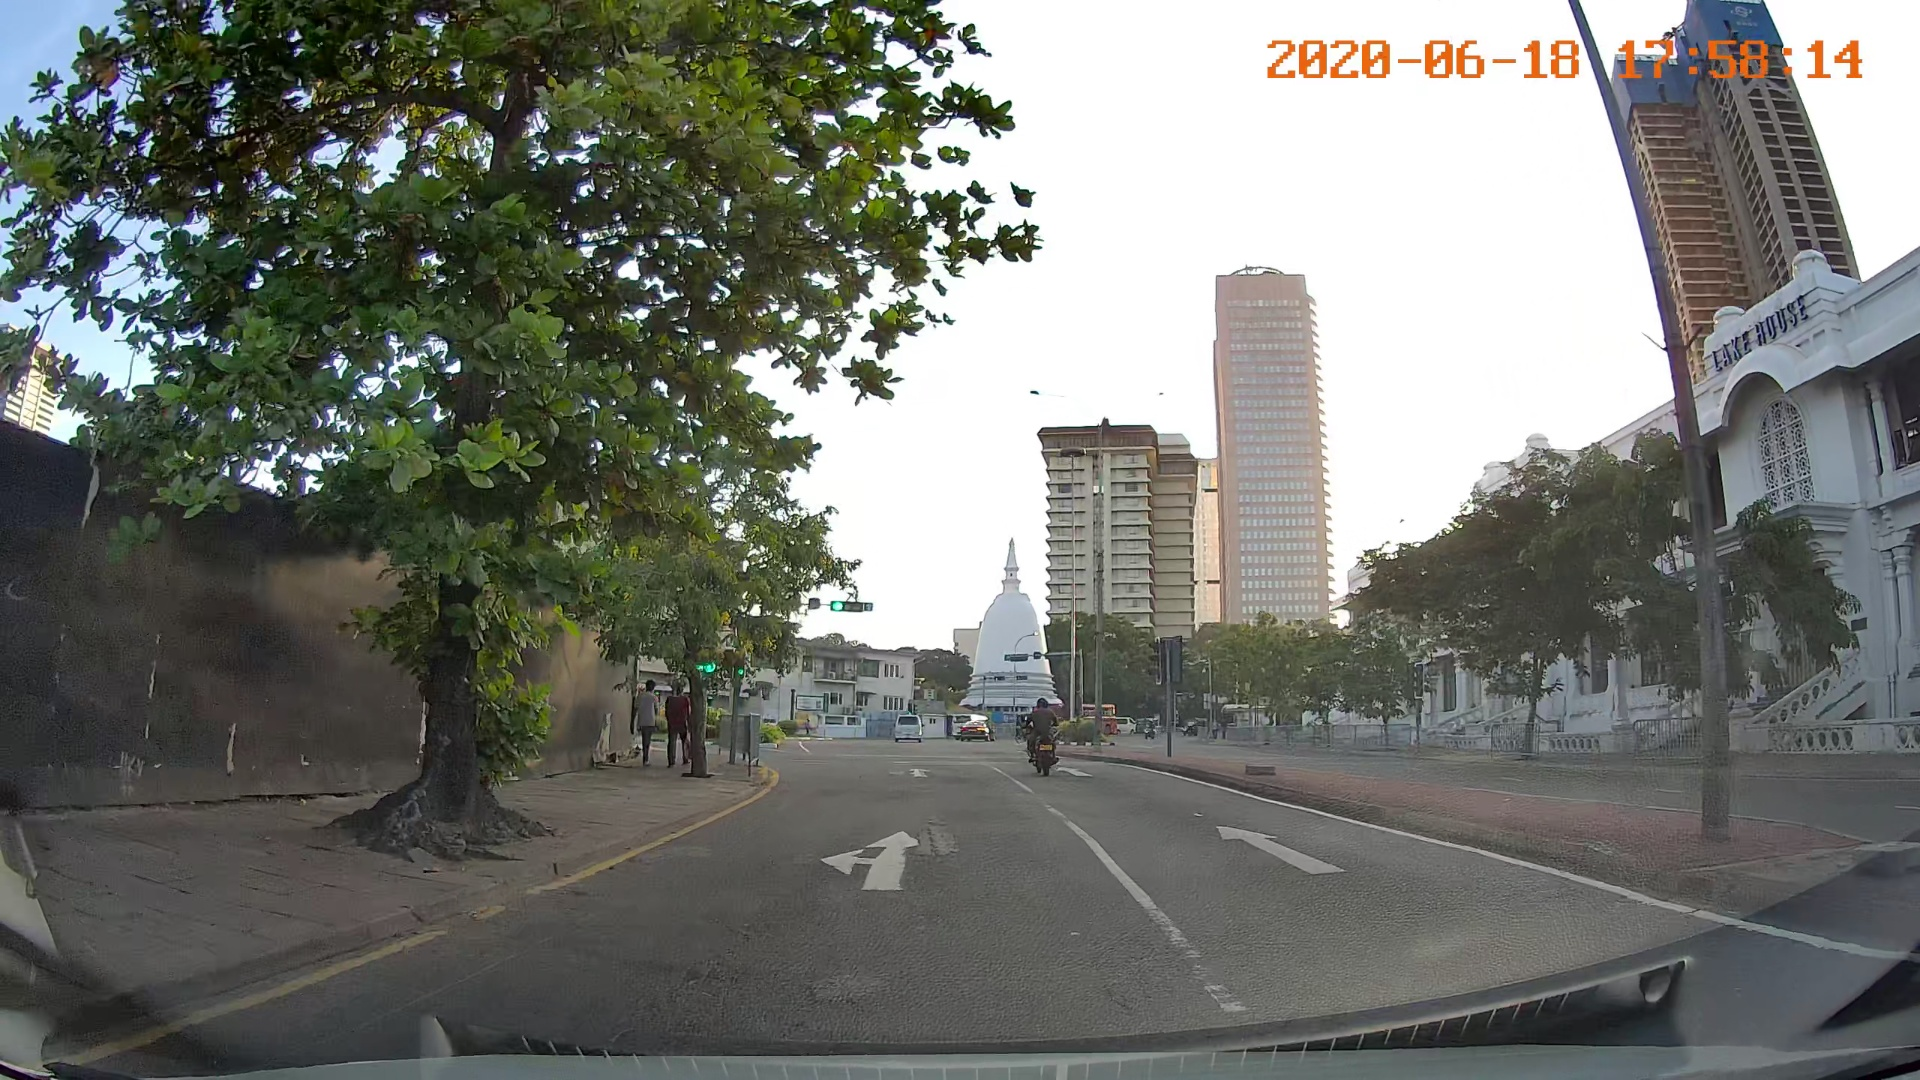arrow: (1195, 811, 1356, 895), (814, 825, 936, 911)
